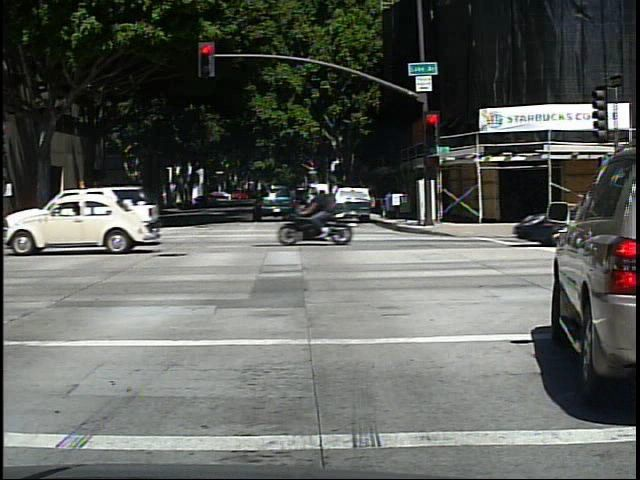person: (314, 178, 353, 239), (61, 190, 72, 225)
